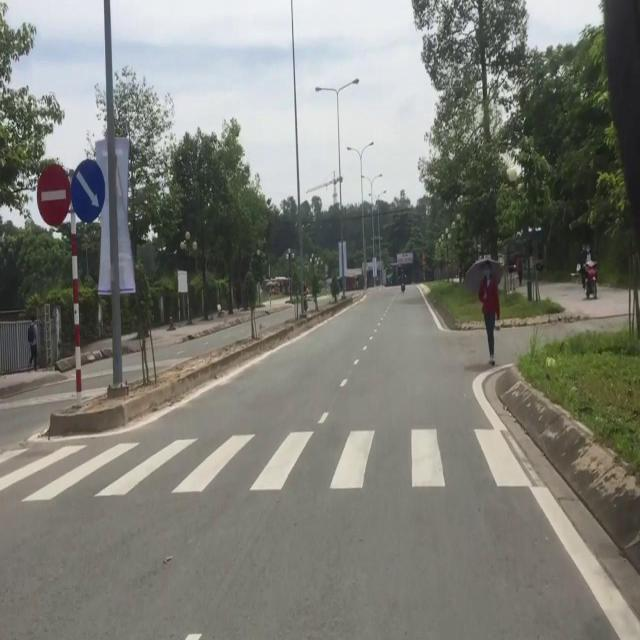I.407a: (36, 163, 71, 229)
